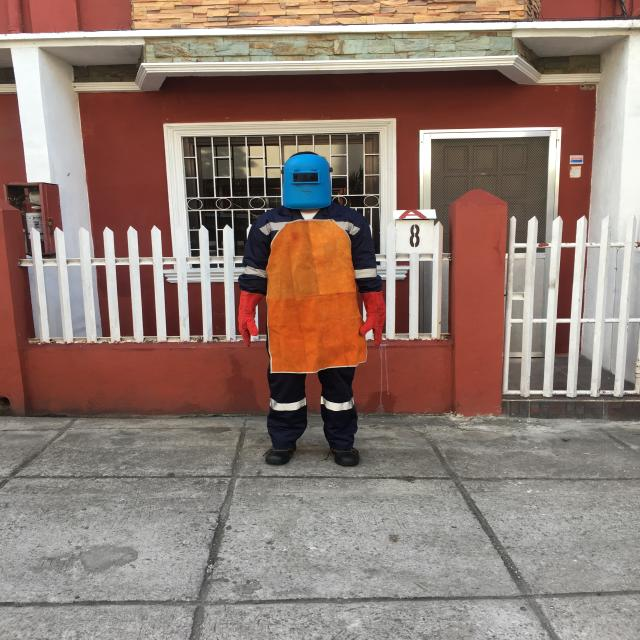with_helmet: (228, 140, 358, 216)
